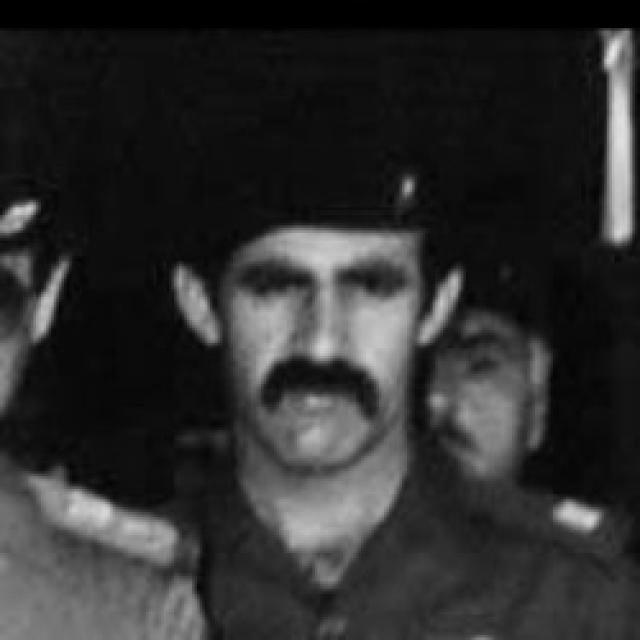real: (219, 172, 429, 473), (238, 254, 415, 316)
